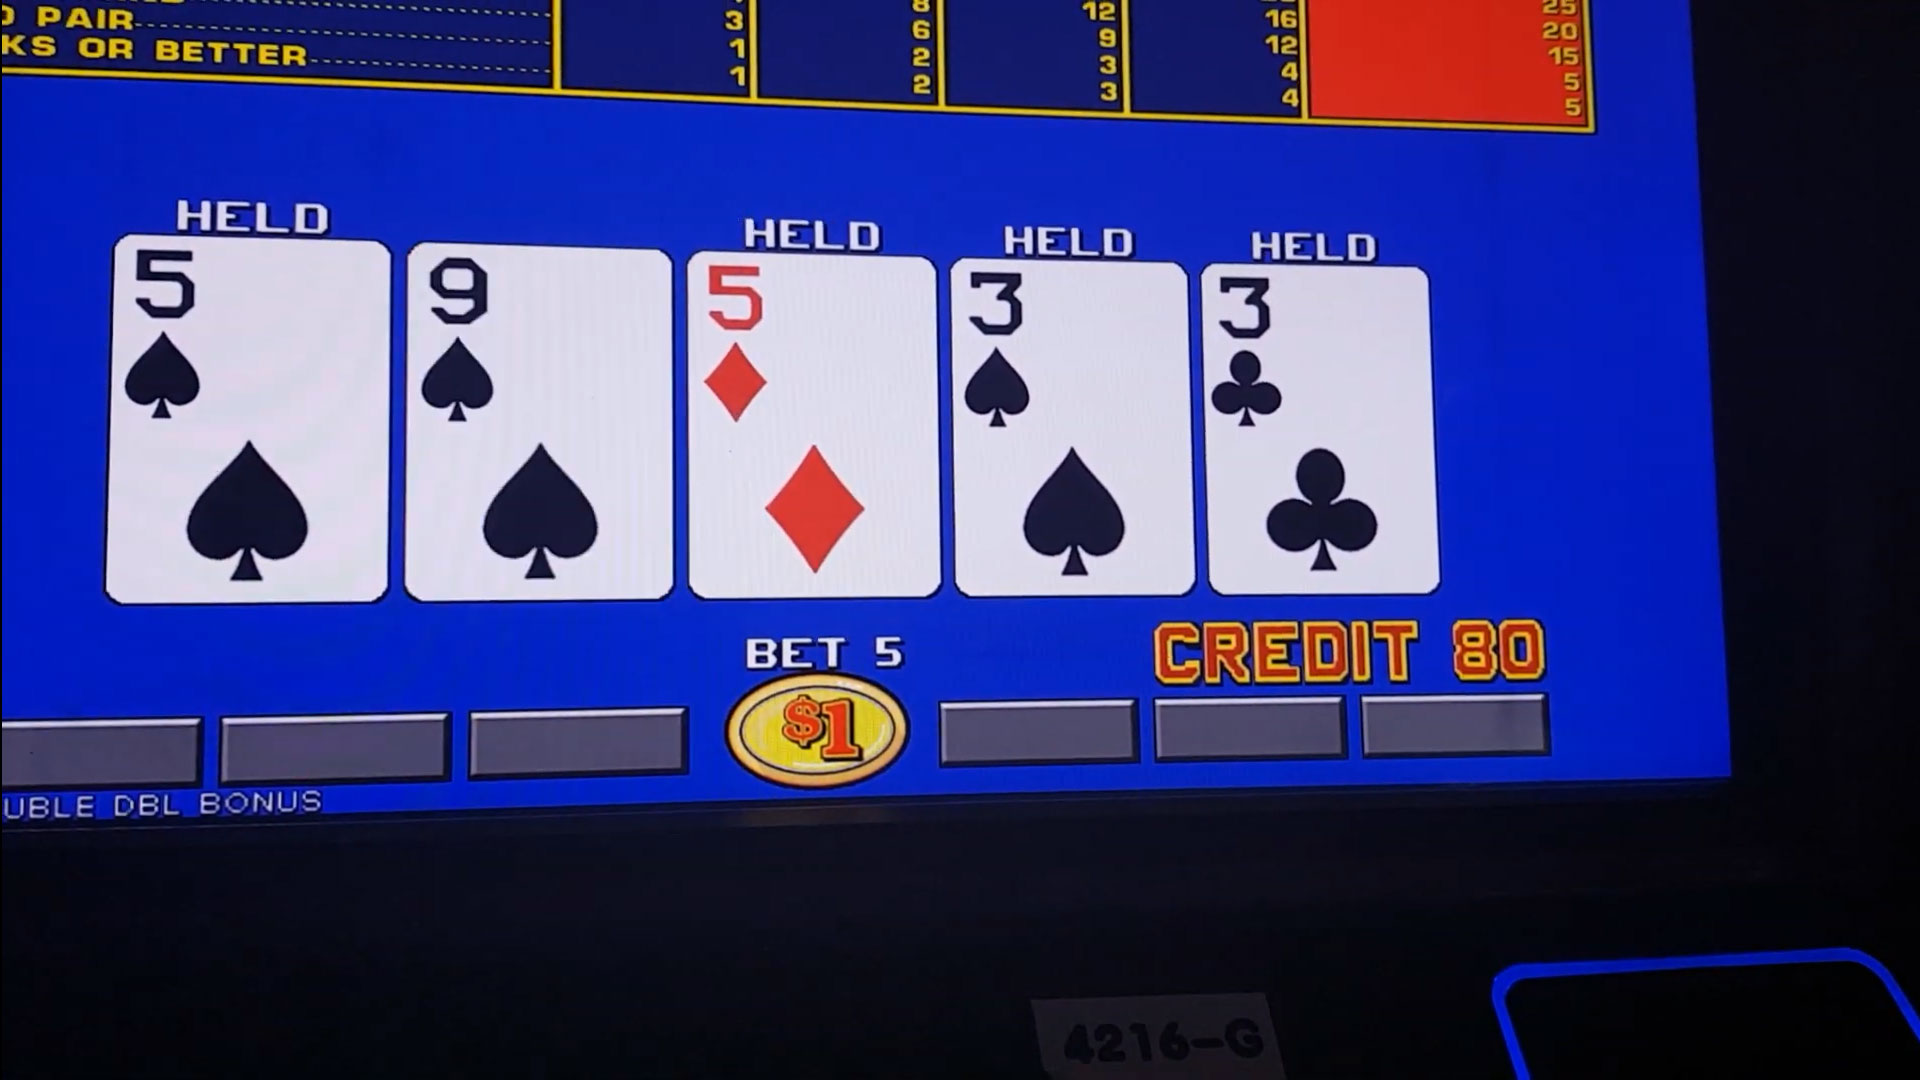C3: (1209, 269, 1422, 434)
D5: (692, 262, 934, 433)
S3: (957, 269, 1185, 436)
S5: (120, 245, 378, 430)
S9: (414, 253, 665, 435)
